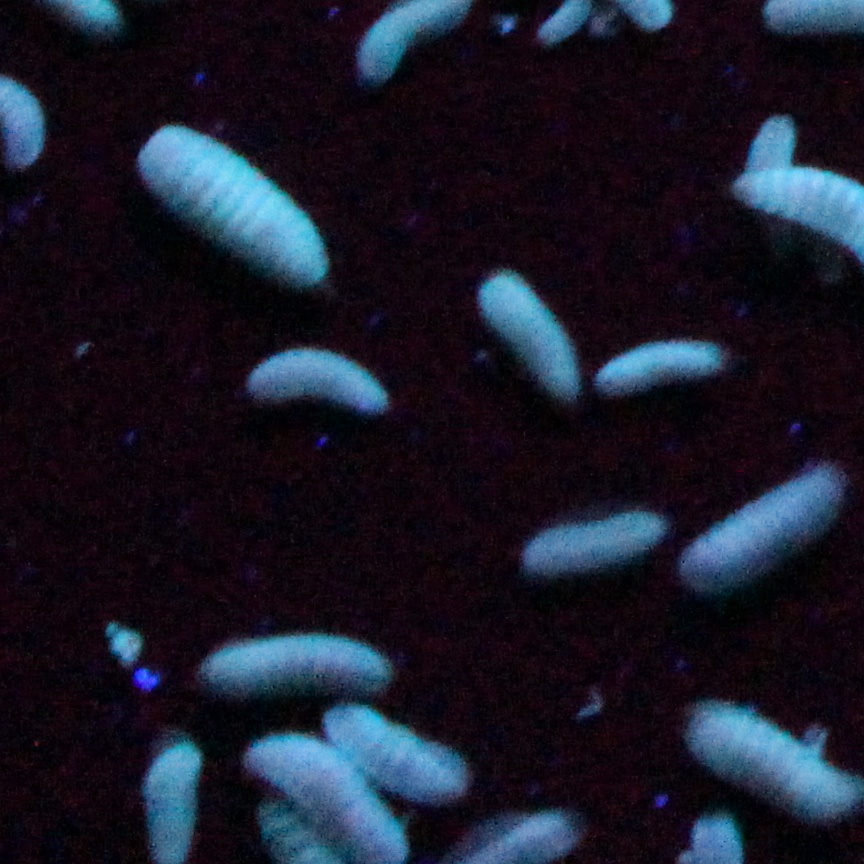larve: (141, 114, 327, 293), (691, 463, 844, 581), (472, 268, 584, 406), (329, 699, 462, 807), (210, 627, 387, 695), (247, 345, 389, 415), (531, 510, 671, 565), (597, 352, 726, 390)
